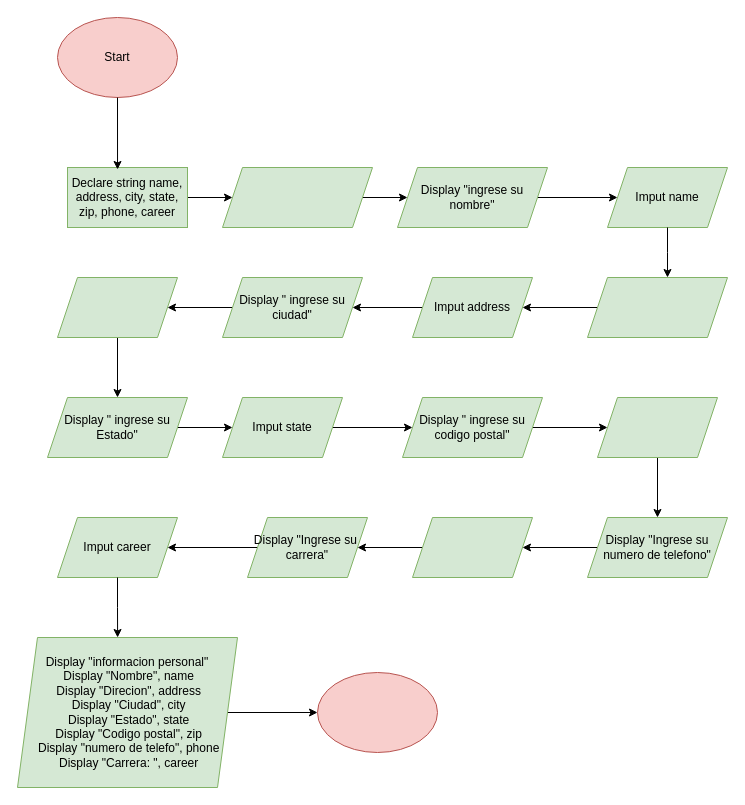
Image size: 745x805. Some labels were removed from this diagram. Each missing label, with the centre of its shape:
Display " ingrese su direccion": [657,307]
Display "programa de informacion personal": [297,197]
End: [377,712]
Imput City: [117,307]
Imput Phone: [472,547]
Ipmut zip: [657,427]
